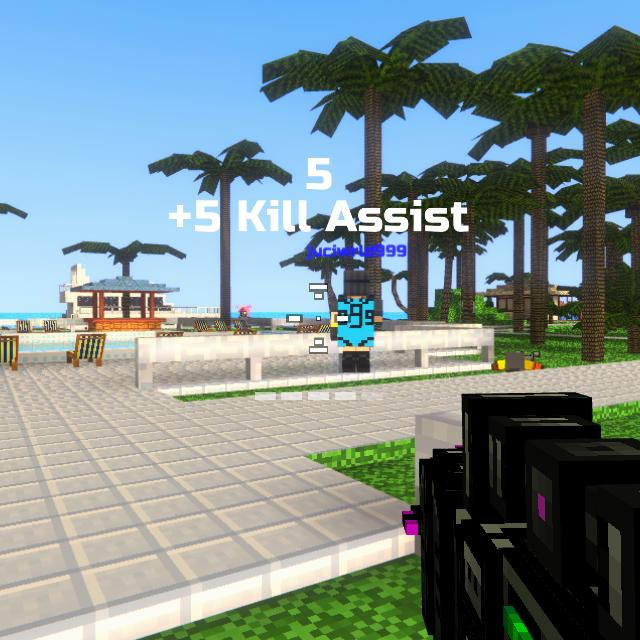Enemy: (238, 307, 249, 317)
